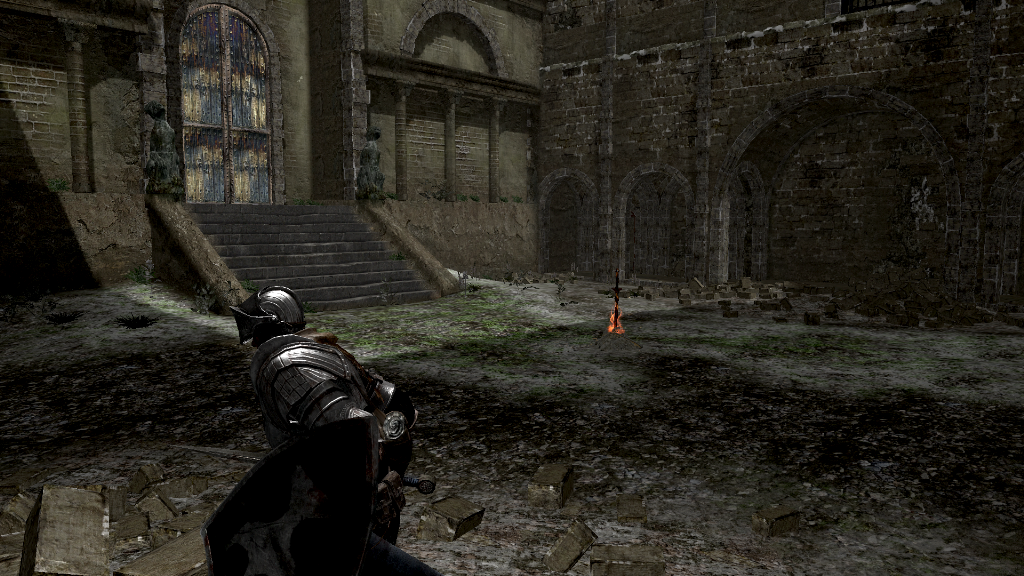bonfire: (604, 267, 629, 342)
player: (165, 285, 447, 576)
